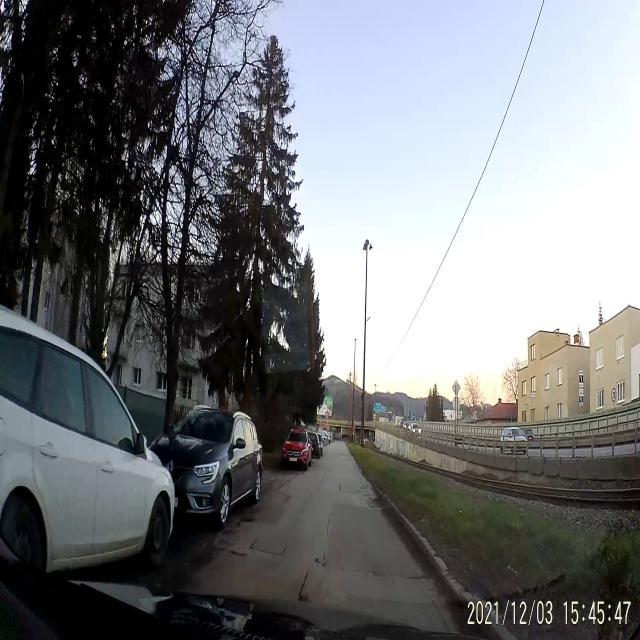Pothole: (297, 565, 310, 601), (225, 548, 252, 560), (367, 496, 383, 512), (316, 552, 326, 574)
